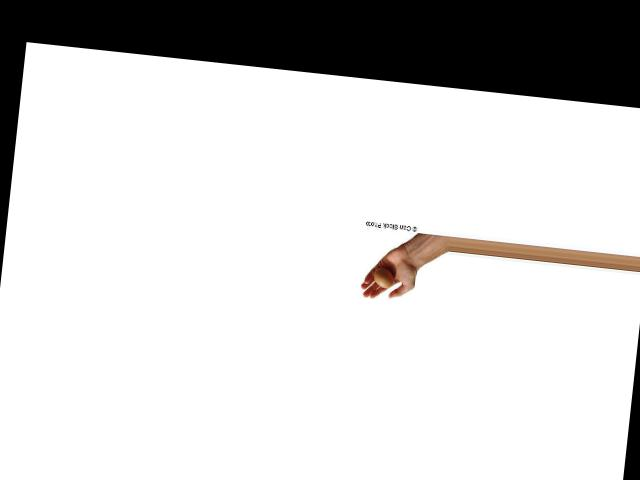egg: (372, 266, 393, 287)
